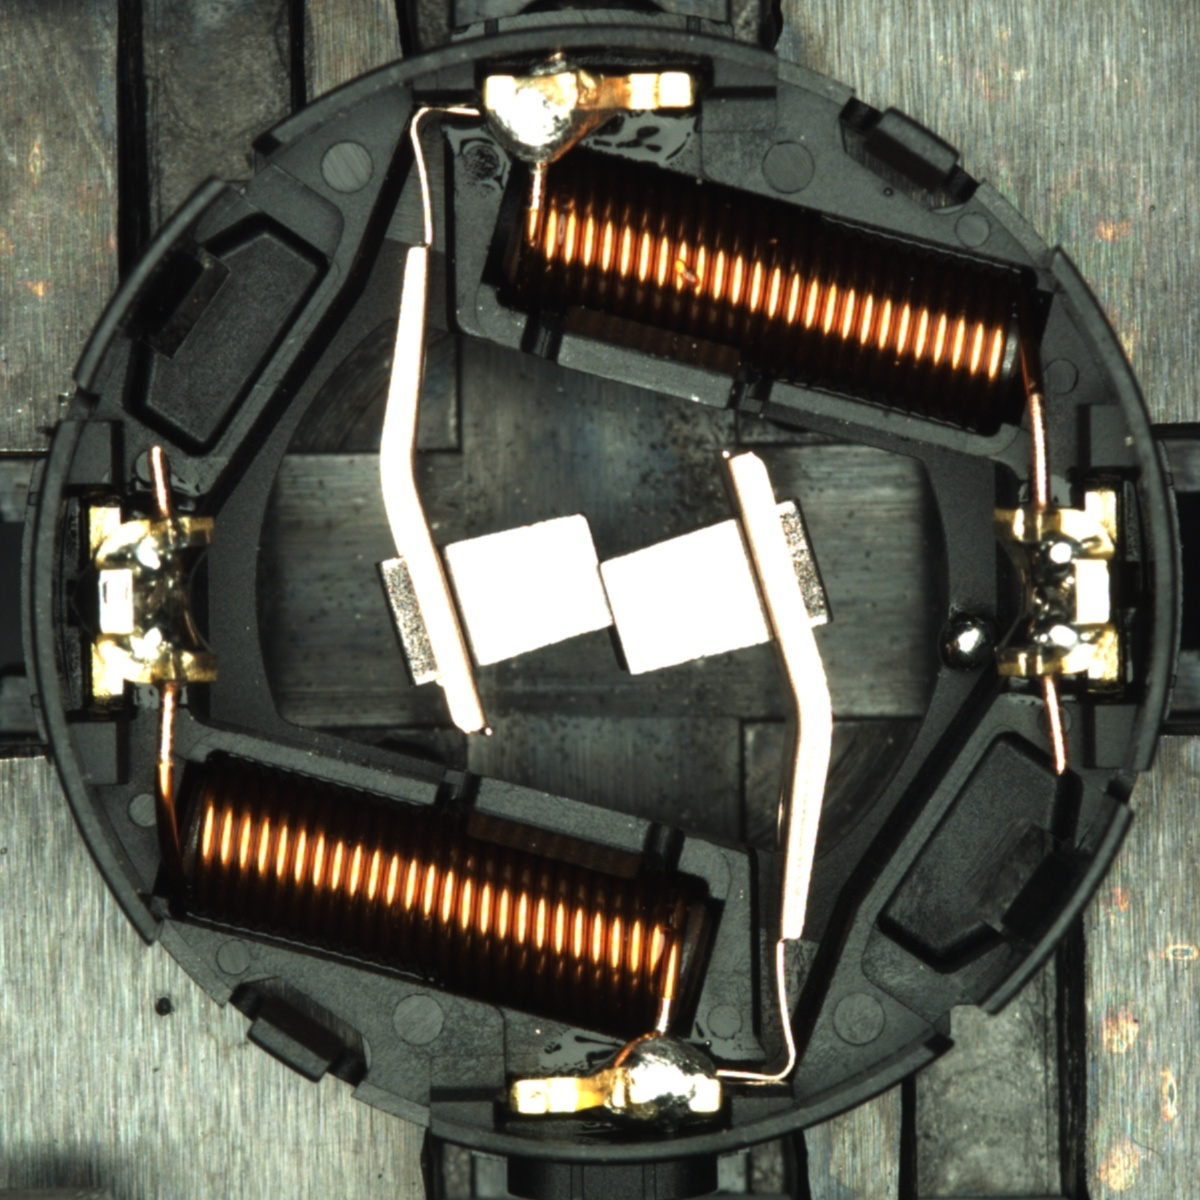1: (258, 32, 487, 257), (716, 930, 945, 1154)
2: (716, 32, 945, 257), (258, 930, 487, 1154)
3: (28, 257, 258, 481), (945, 706, 1175, 930)
4: (258, 257, 487, 481), (716, 706, 945, 930)
5: (487, 145, 716, 369), (487, 818, 716, 1042)
6: (716, 257, 945, 481), (258, 706, 487, 930)
7: (945, 257, 1175, 481), (28, 706, 258, 930)
cacbon: (403, 501, 800, 686)
chau_dien: (986, 487, 1127, 687), (83, 499, 222, 700)
hat_chi: (936, 609, 999, 674)
tay_choi: (482, 70, 698, 173), (512, 1025, 723, 1120)
thanh_de: (956, 788, 1142, 1031), (61, 166, 245, 404)
